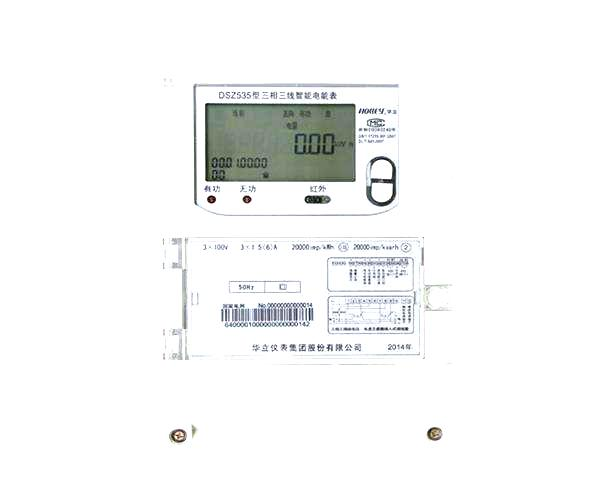digital: (149, 67, 449, 500)
